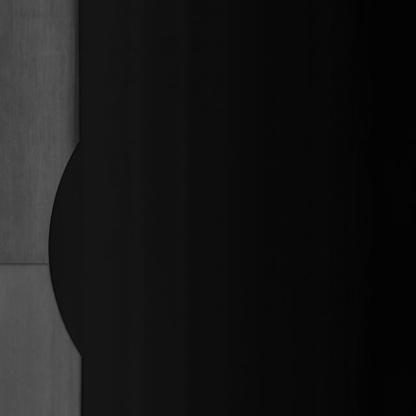crescent_gap: (39, 132, 97, 364)
welding_line: (0, 235, 58, 278)
